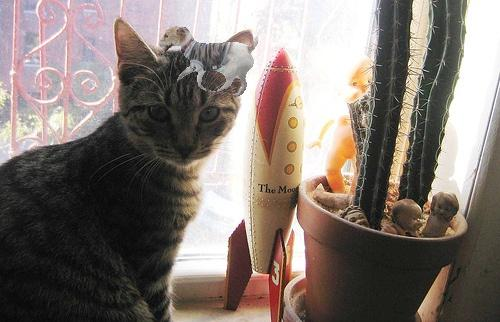tampered: (160, 27, 258, 97)
